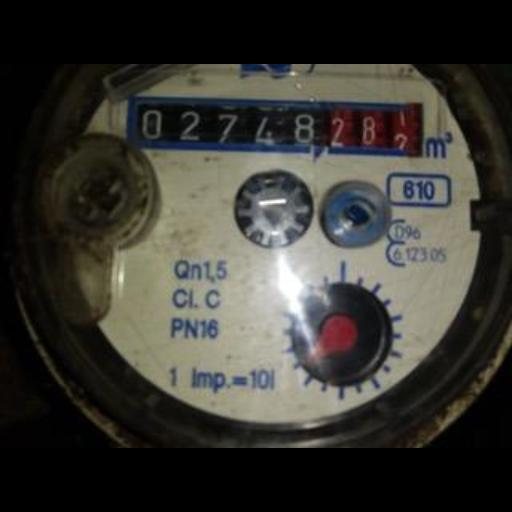0: (137, 103, 171, 141)
1: (389, 104, 419, 157)
2: (170, 104, 210, 142), (323, 109, 355, 147)
4: (247, 106, 285, 144)
7: (208, 104, 248, 144)
8: (283, 107, 323, 147), (355, 109, 387, 147)
border_water_meter_number: (125, 93, 426, 160)
